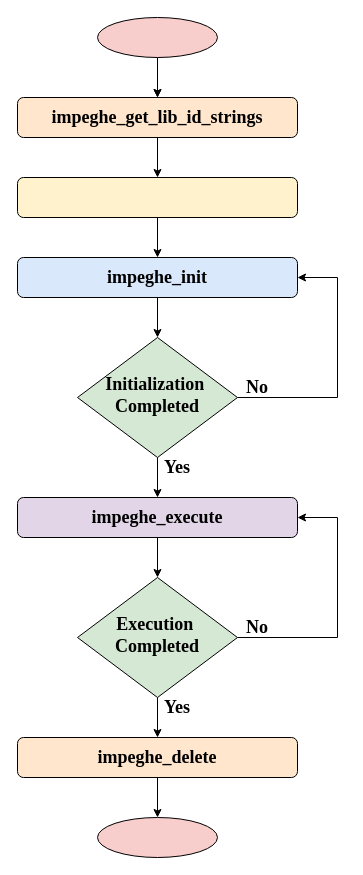
Image size: 363x875. Some labels were removed from this diagram. The box of each missing label's shape, as (x1, y1, x2, y2) in pixels:
impeghe_create: (16, 176, 298, 218)
Start: (96, 16, 218, 58)
Stop: (96, 816, 218, 858)
